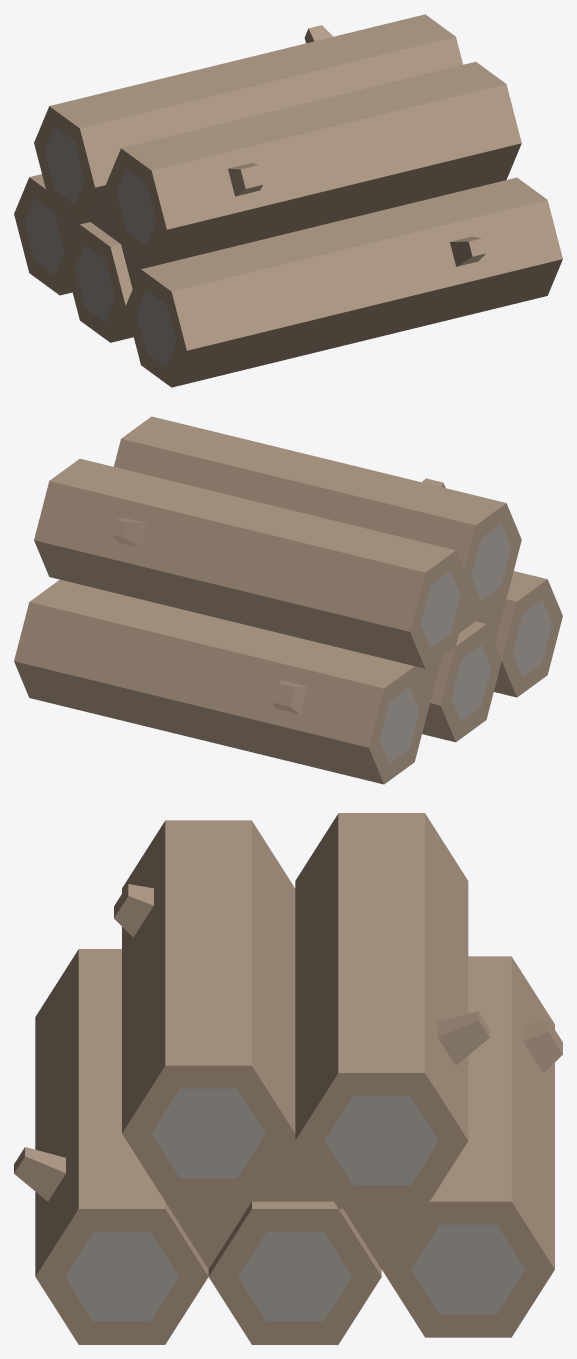
File: K_LogPile.glb
The picture shows the model from 3 angles, top to bottom: view 1: azimuth 30°, elevation 25°; view 2: azimuth 150°, elevation 25°; view 3: azimuth 270°, elevation 25°; orthographic projection. The views are drawn at different scales.
Parts seen in each view (by area): view 1: K_LogPile; view 2: K_LogPile; view 3: K_LogPile.
Boxes of the visible parts, box(x1,y1,x2,y2) form: K_LogPile: box(14, 14, 562, 387); K_LogPile: box(14, 416, 562, 784); K_LogPile: box(14, 813, 562, 1344).
Bounding box in the file's own units: 2.36 × 1.15 × 2.1.
